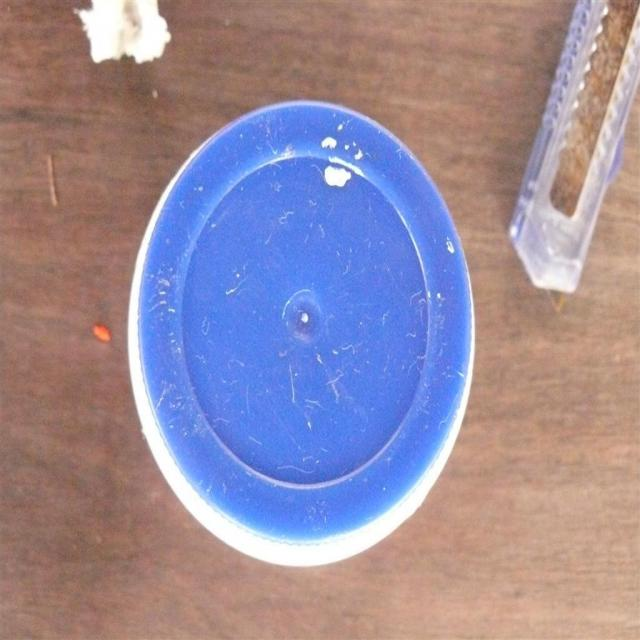non-organic waste: (128, 80, 481, 617)
